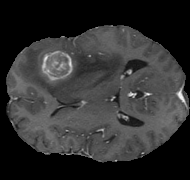Edema: (19, 39, 120, 103)
EnhancingTumors: (42, 39, 96, 95)
Necrosis: (43, 43, 78, 77)
